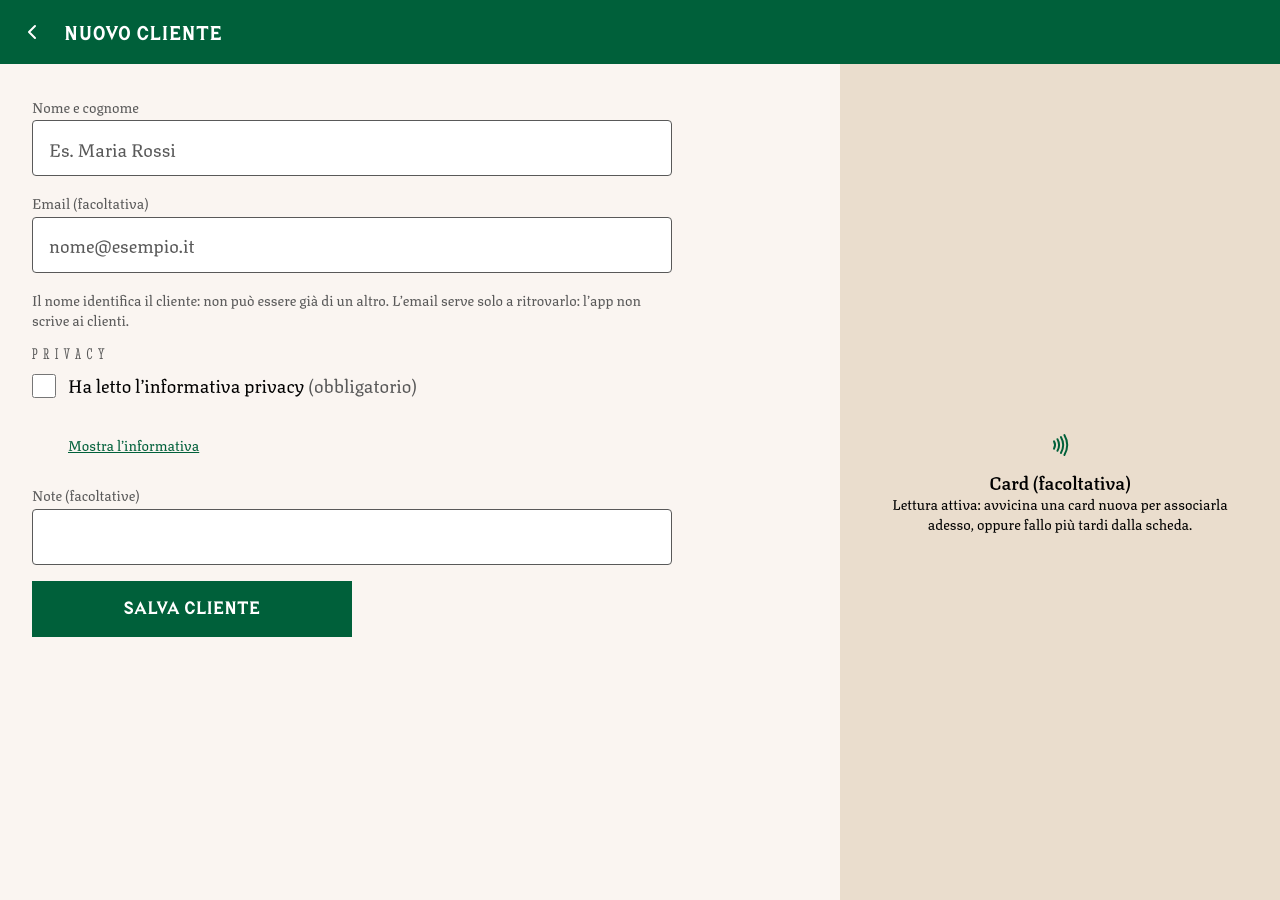
it: Nuovo cliente senza card: the section "Card (facoltativa)" › card taken meanwhile: no customer, the notice, then saved without the card
This screenshot has width=1280, height=900.
Later steps or results of the test are not shown.
Expected: the text "Lettura attiva: avvicina una card nuova per associarla adesso, oppure fallo più tardi dalla scheda." is shown, [892,492,1228,534]
Type "Giulia Bianchi" into the field labelled "Nome e cognome" at (352, 148), box [32,120,672,176]
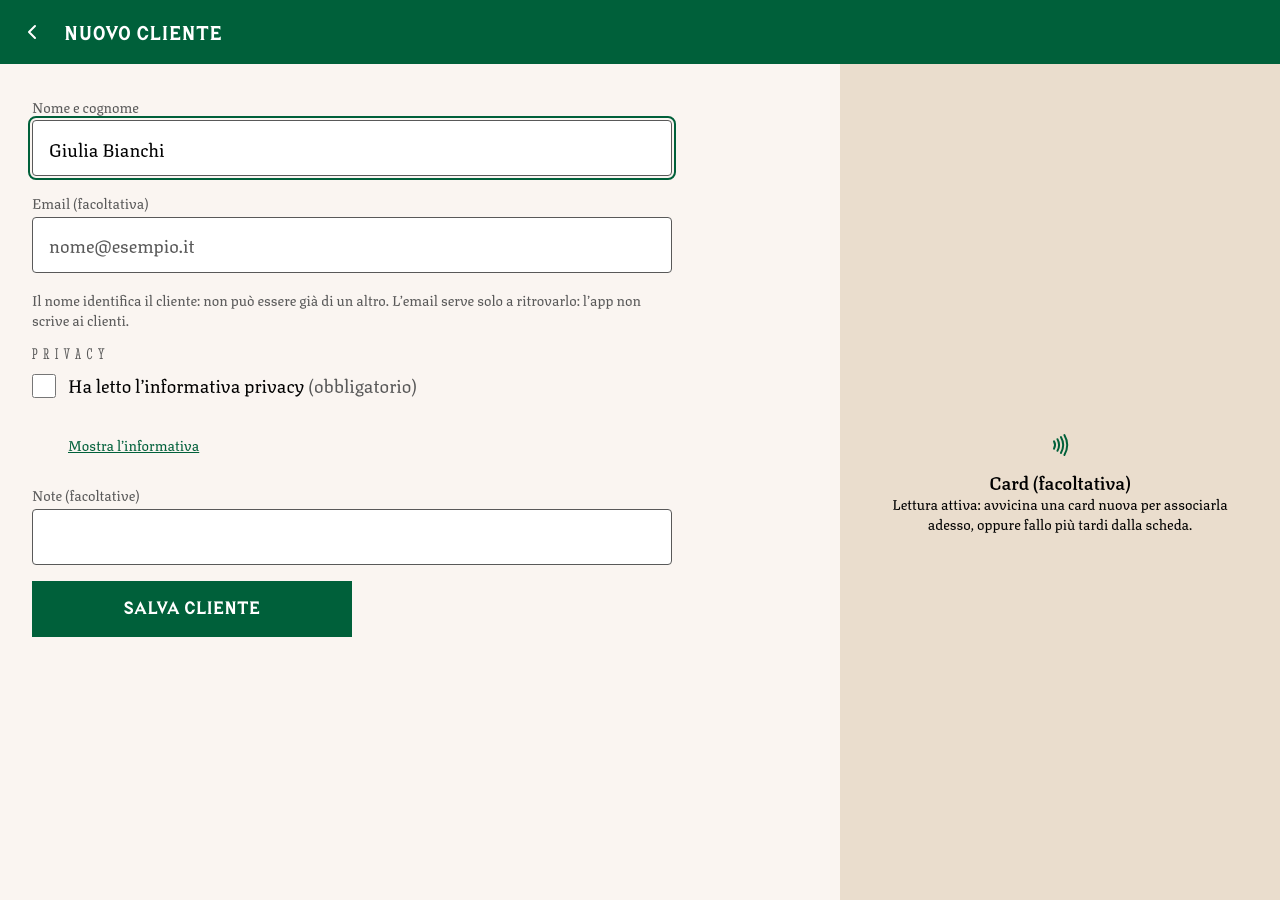
Type "giulia@example.com" into the field labelled "Email (facoltativa)" at (352, 245), box [32,217,672,273]
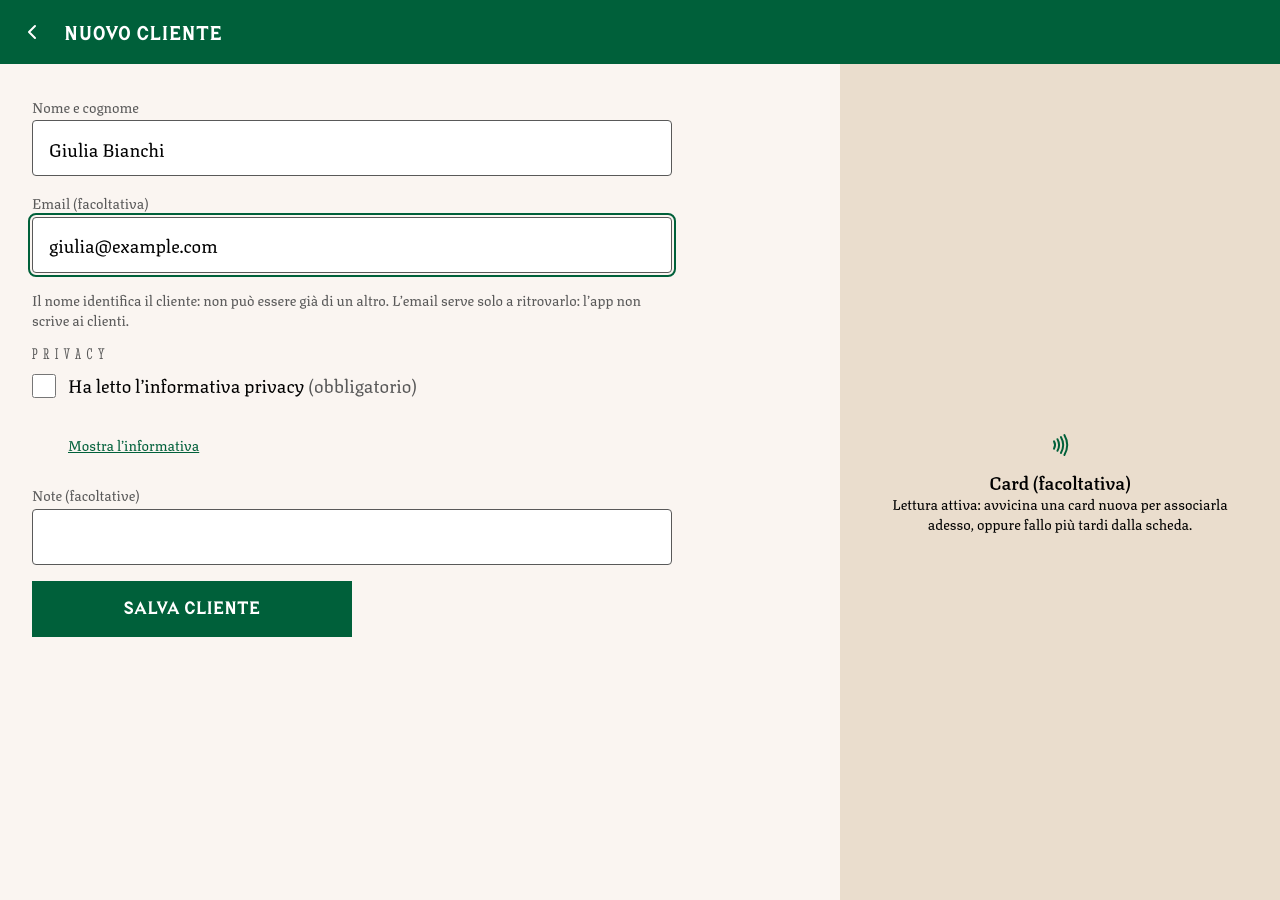
Click the checkbox labelled "Ha letto l’informativa privacy (obbligatorio)" at (44, 386), box [32,374,56,398]
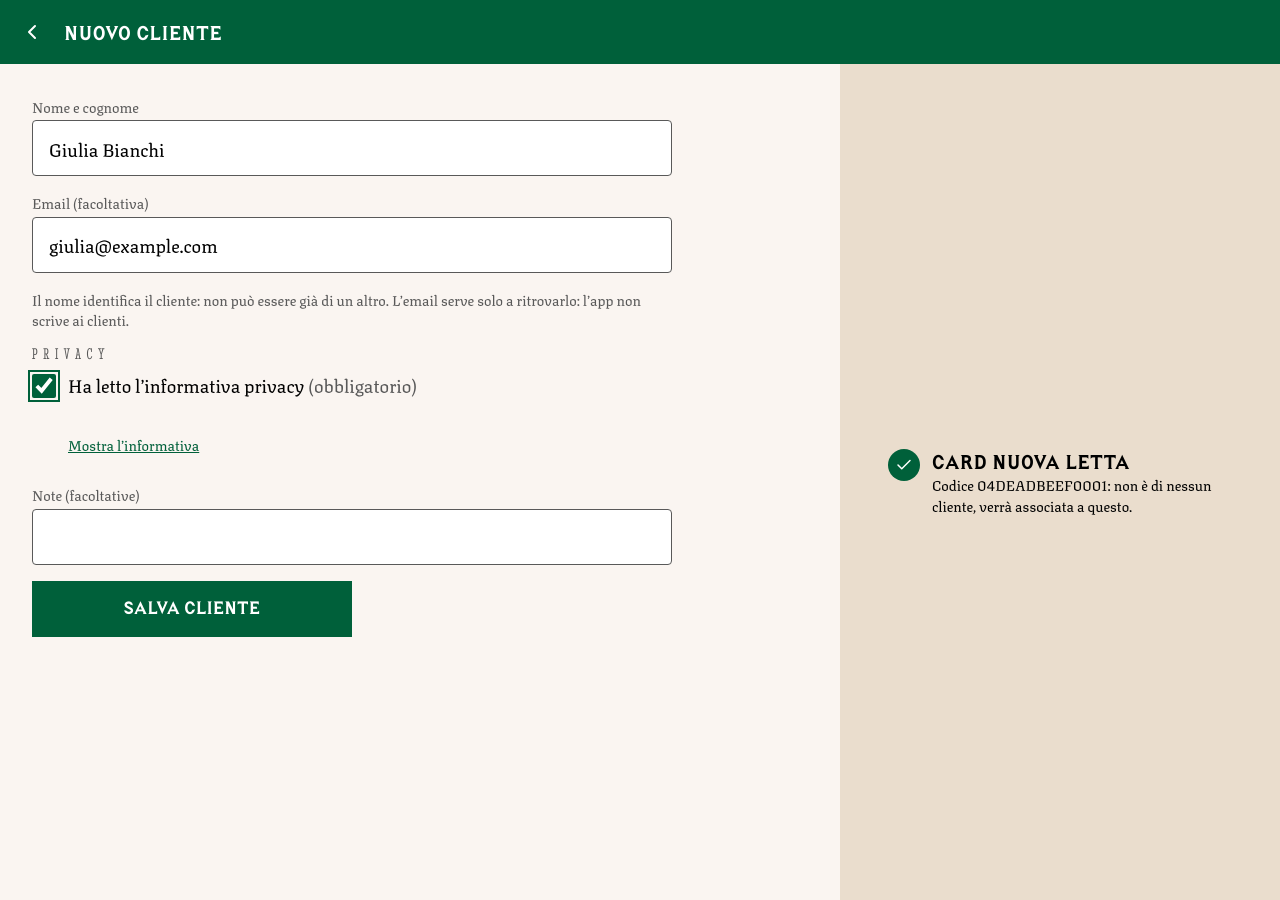
Now the element named "Card letta" is shown, box [872,433,1248,531]
